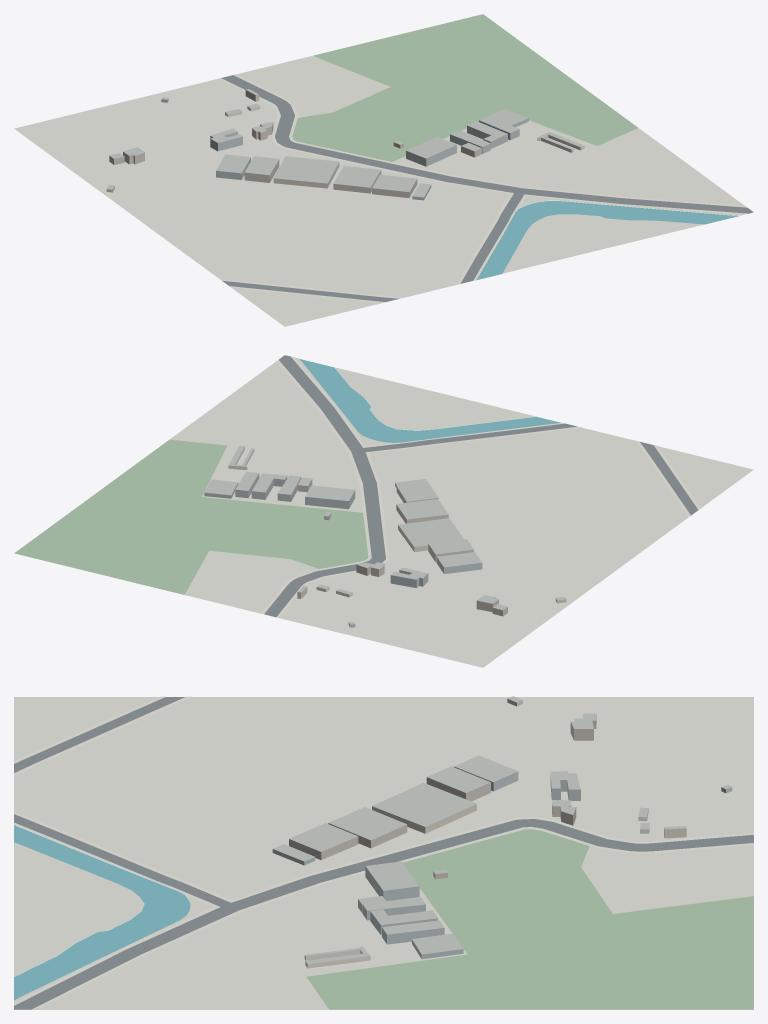
3 renders of one model, top to bottom at view 1: azimuth 30°, elevation 25°; view 2: azimuth 150°, elevation 25°; view 3: azimuth 270°, elevation 25°, orthographic. The views are drawn at different scales.
Visible parts, largest first — view 1: city; view 2: city; view 3: city.
Boxes of the visible parts, left/top/right/bottom form: city: left=14, top=14, right=753, bottom=326; city: left=14, top=355, right=753, bottom=667; city: left=14, top=696, right=753, bottom=1009.
Bounding box in the file's own units: 500 × 8.88 × 500.
